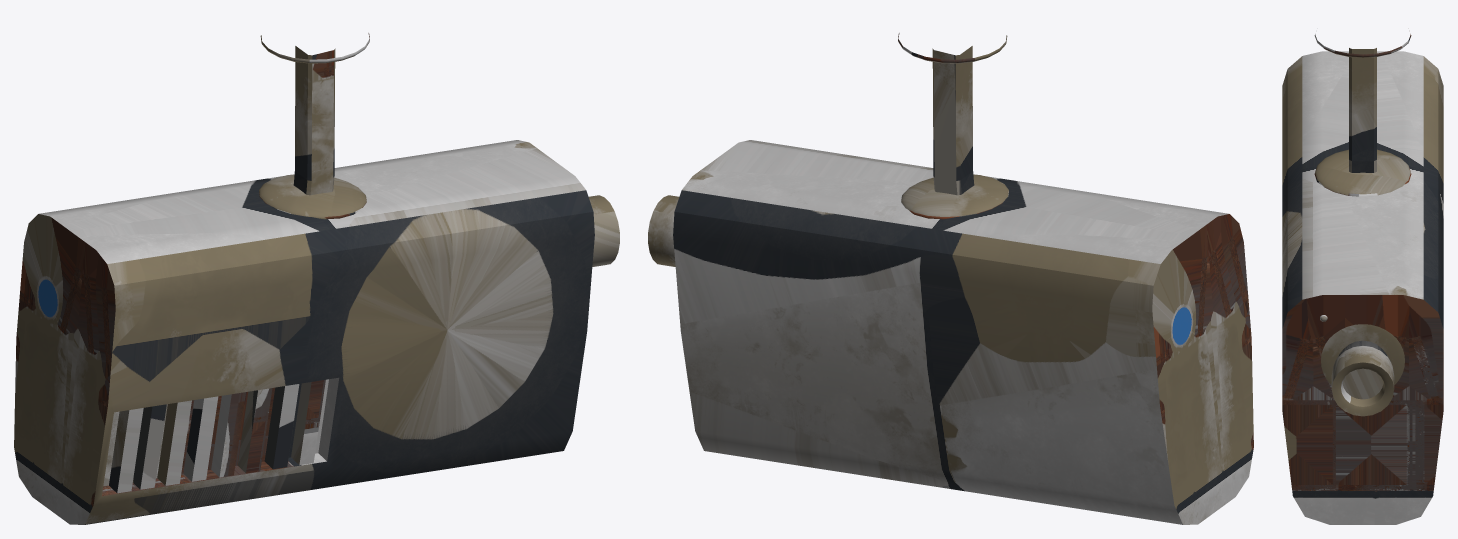
Rendered from SecurityCamtexture.gltf.
3 renders of one model, left to right at view 1: azimuth 30°, elevation 25°; view 2: azimuth 150°, elevation 25°; view 3: azimuth 270°, elevation 25°, orthographic. The views are drawn at different scales.
Parts seen in each view (by area): view 1: SM_SecurityCam; view 2: SM_SecurityCam; view 3: SM_SecurityCam.
Boxes of the visible parts, bbox=[...] form: SM_SecurityCam: bbox=[14, 33, 619, 524]; SM_SecurityCam: bbox=[648, 33, 1253, 524]; SM_SecurityCam: bbox=[1282, 34, 1443, 524].
Bounding box in the file's own units: 0.3543 × 0.2765 × 0.1016.
